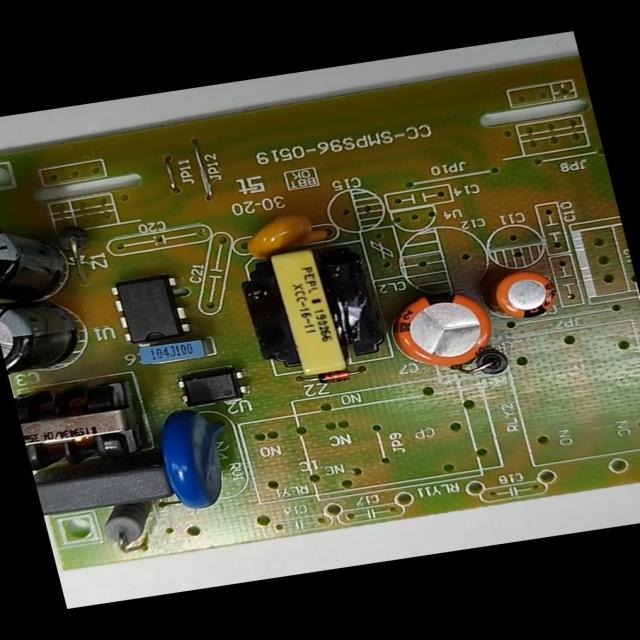Cap1: (376, 277, 504, 379)
Cap2: (476, 260, 568, 332)
Cap3: (0, 276, 108, 384)
Cap4: (0, 202, 88, 315)
MOSFET: (101, 268, 201, 353)
Mov: (145, 401, 254, 518)
Resistor: (89, 493, 162, 558)
Transformer: (229, 230, 395, 385), (12, 372, 153, 476)
